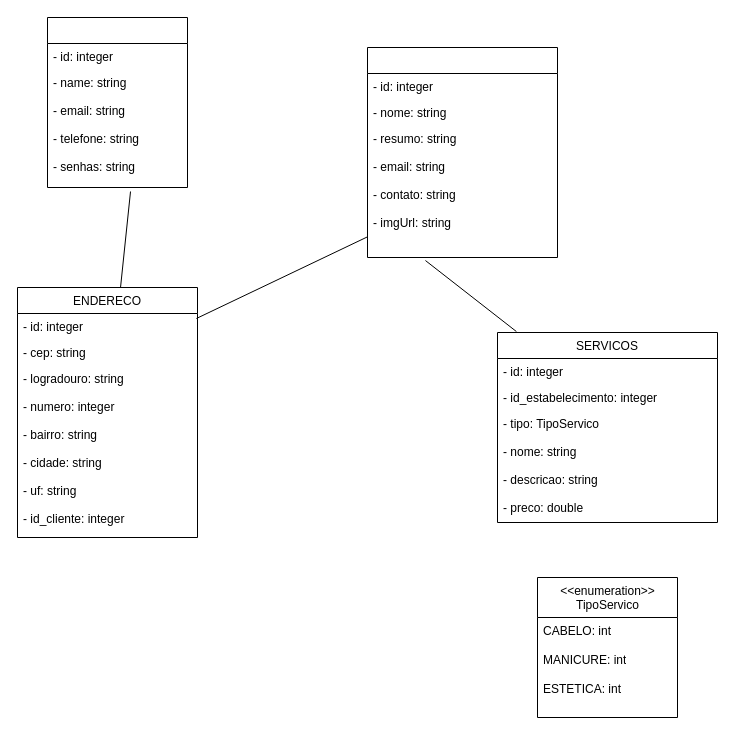
Image size: 735x735. Some labels were removed from this diagram. Here are the shapes that lost their labels. From the top down, the box of each, then its label:
(46, 16, 188, 188): USUARIO
(366, 46, 558, 258): ESTABELECIMENTOS
